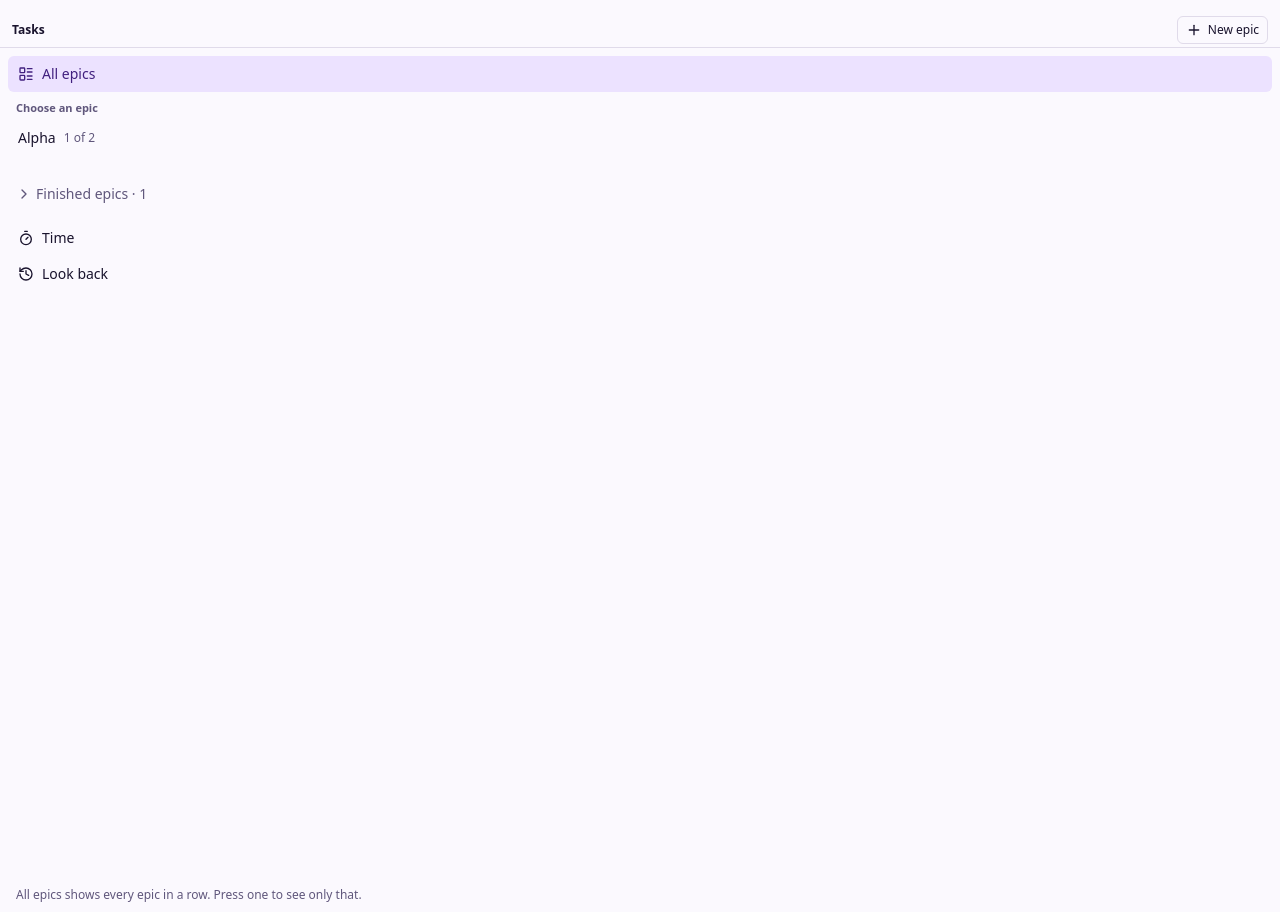
it: TasksPanel › lists the epics with how far each has come, finished ones folded away
Check: the button "Alpha 1 of 2" is shown, box left=8, top=120, right=1272, bottom=168
Check: the heading "Choose an epic" is shown, box left=16, top=100, right=98, bottom=115
Click the button "Finished epics · 1".
click(88, 194)  # box left=8, top=180, right=1272, bottom=208
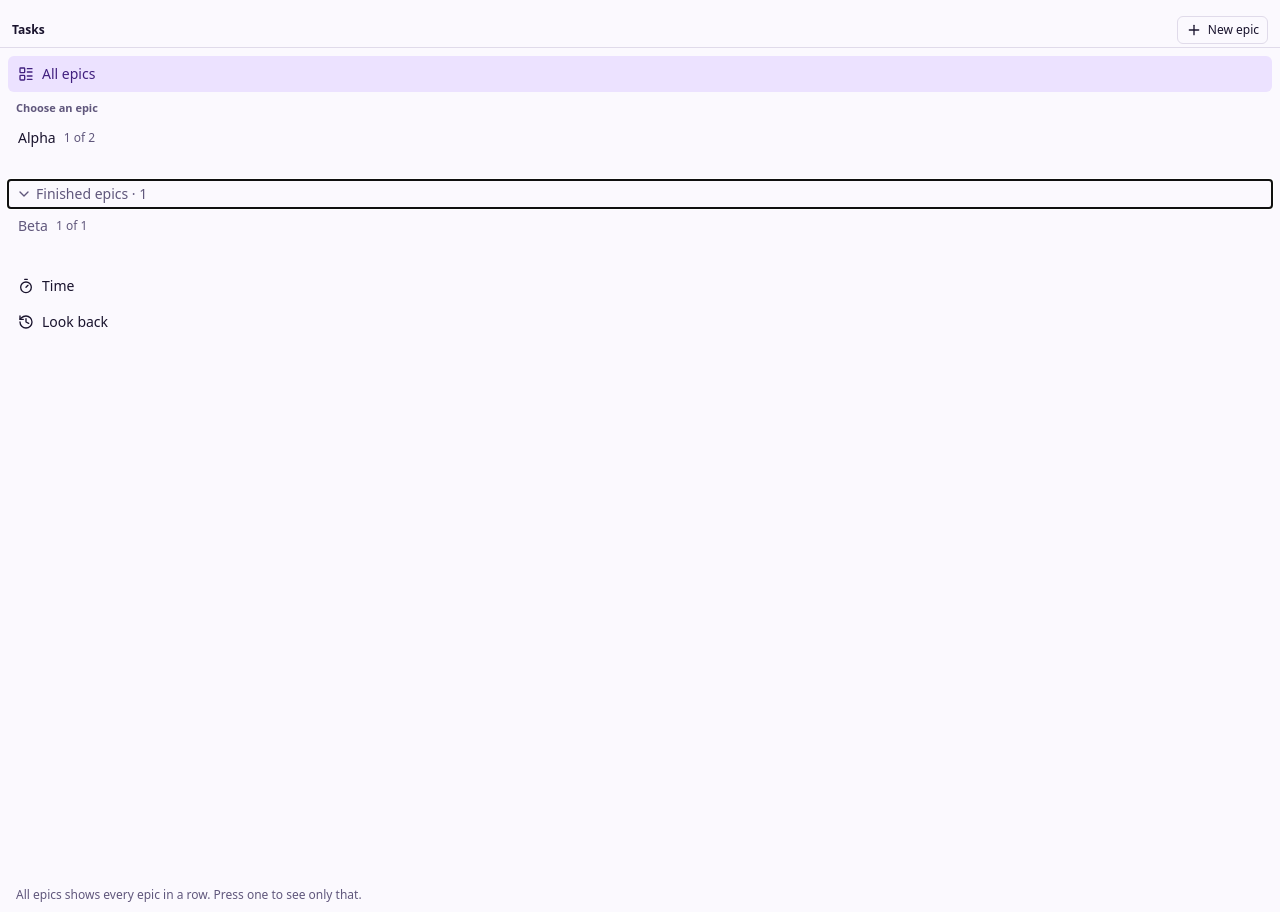
Check: the button "Beta 1 of 1" is shown, box left=8, top=208, right=1272, bottom=256
